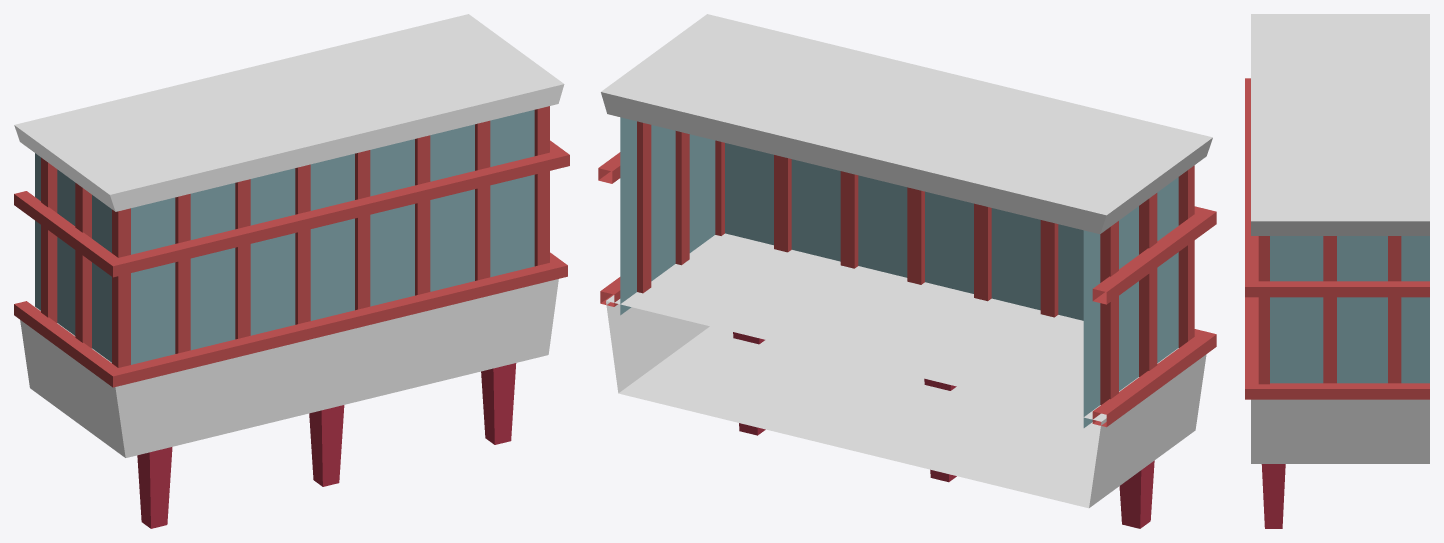
The model's file is House (Balcony big).fbx.
3 renders of one model, left to right at view 1: azimuth 30°, elevation 25°; view 2: azimuth 150°, elevation 25°; view 3: azimuth 270°, elevation 25°, orthographic. The views are drawn at different scales.
Parts seen in each view (by area): view 1: Object; view 2: Object; view 3: Object.
Part boxes in pixels (left/top/right/bottom): Object: left=14, top=14, right=569, bottom=528; Object: left=598, top=14, right=1216, bottom=528; Object: left=1245, top=14, right=1429, bottom=528.
Size of the model in its own units: 1286 by 945 by 482.
